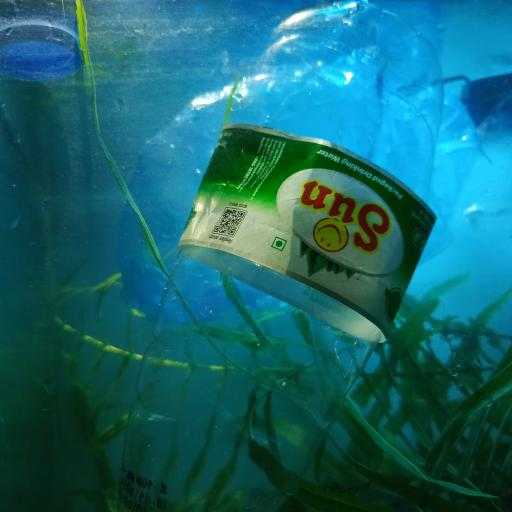bottle_cap: (0, 20, 82, 82)
mask: (435, 70, 512, 138)
plastic_bag: (118, 83, 481, 327), (130, 86, 230, 270), (422, 91, 479, 262), (118, 208, 167, 317)
plastic_bottle: (125, 4, 446, 512)
